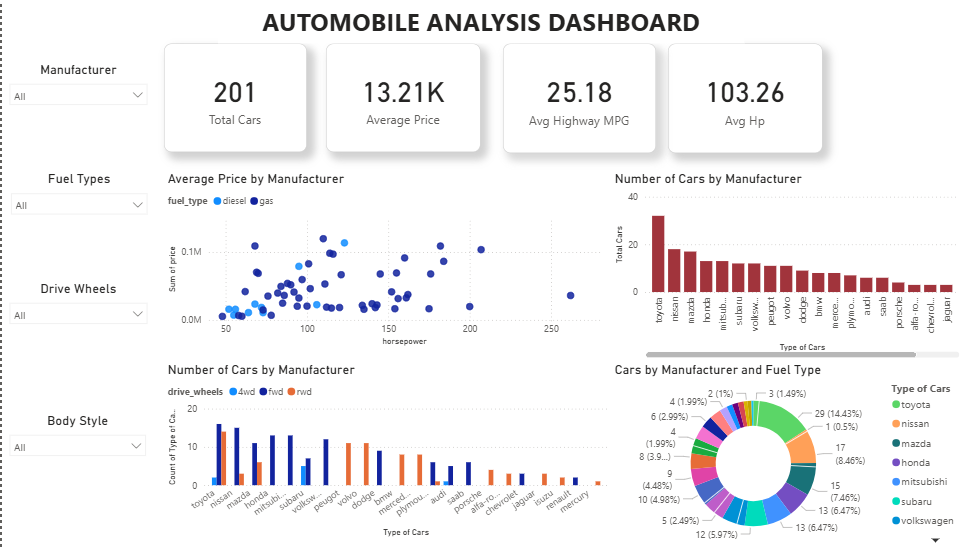

This screenshot's page, from the dashboard's own definition file:
{"tool":"powerbi","page":{"name":"Page 1","canvas":[1280,720],"ordinal":0},"visuals":[{"type":"clusteredColumnChart","title":"Number of Cars by Manufacturer","fields":{"Category":["022bim024.make"],"Y":["CountNonNull(022bim024.Type of Cars)"]},"box":[795.6,224.4,460,248.9],"z":0},{"type":"donutChart","title":"Cars by Manufacturer and Fuel Type","fields":{"Category":["022bim024.make"],"Series":["022bim024.fuel_type"],"Y":["CountNonNull(022bim024.Type of Cars)"]},"box":[795.6,473.3,484.4,246.7],"z":1000},{"type":"clusteredColumnChart","title":"Number of Cars by Manufacturer  ","fields":{"Category":["022bim024.make"],"Series":["022bim024.drive_wheels"],"Y":["CountNonNull(022bim024.Type of Cars)"]},"box":[211.1,473.3,584.4,233.3],"z":2000},{"type":"scatterChart","title":"Average Price by Manufacturer","fields":{"X":["022bim024.horsepower"],"Series":["022bim024.fuel_type"],"Y":["Sum(022bim024.price)"]},"box":[211.1,224.4,584.4,233.3],"z":3000},{"type":"card","title":"Total Cars","fields":{"Values":["CountNonNull(022bim024.Type of Cars)"]},"box":[211.1,57.8,186.7,142.2],"z":4000},{"type":"card","fields":{"Values":["Avg(022bim024.price)"]},"box":[424.4,57.8,202.2,142.2],"z":5000},{"type":"card","fields":{"Values":["Avg(022bim024.horsepower)"]},"box":[870.6,56.9,202,143.1],"z":6000},{"type":"card","fields":{"Values":["Avg(022bim024.city_mpg)"]},"box":[654.9,56.9,200,143.1],"z":7000},{"type":"textbox","box":[282.4,0,688.2,56.9],"z":7001},{"type":"slicer","title":"Manufacturer","fields":{"Values":["022bim024.Type of Cars"]},"box":[0,80.4,200,143.1],"z":7002},{"type":"slicer","title":"Fuel Types","fields":{"Values":["022bim024.fuel_type"]},"box":[2,223.5,198,143.1],"z":7003},{"type":"slicer","title":"Drive Wheels","fields":{"Values":["022bim024.drive_wheels"]},"box":[0,366.7,200,152.9],"z":7004},{"type":"slicer","title":"Body Style","fields":{"Values":["022bim024.body_style"]},"box":[0,539.2,198,149],"z":7005}]}

Visuals, with their boxes in screenshot pixels (x1, y1, x2, y2), scaled from the page's 1280x720 canvas onto the 977x548 screenshot:
"Number of Cars by Manufacturer" clusteredColumnChart: [left=607, top=171, right=958, bottom=360]
"Cars by Manufacturer and Fuel Type" donutChart: [left=607, top=360, right=976, bottom=547]
"Number of Cars by Manufacturer  " clusteredColumnChart: [left=161, top=360, right=607, bottom=538]
"Average Price by Manufacturer" scatterChart: [left=161, top=171, right=607, bottom=348]
"Total Cars" card: [left=161, top=44, right=304, bottom=152]
card - Avg(022bim024.price): [left=324, top=44, right=478, bottom=152]
card - Avg(022bim024.horsepower): [left=665, top=43, right=819, bottom=152]
card - Avg(022bim024.city_mpg): [left=500, top=43, right=653, bottom=152]
textbox: [left=216, top=0, right=741, bottom=43]
"Manufacturer" slicer: [left=0, top=61, right=153, bottom=170]
"Fuel Types" slicer: [left=2, top=170, right=153, bottom=279]
"Drive Wheels" slicer: [left=0, top=279, right=153, bottom=395]
"Body Style" slicer: [left=0, top=410, right=151, bottom=524]
